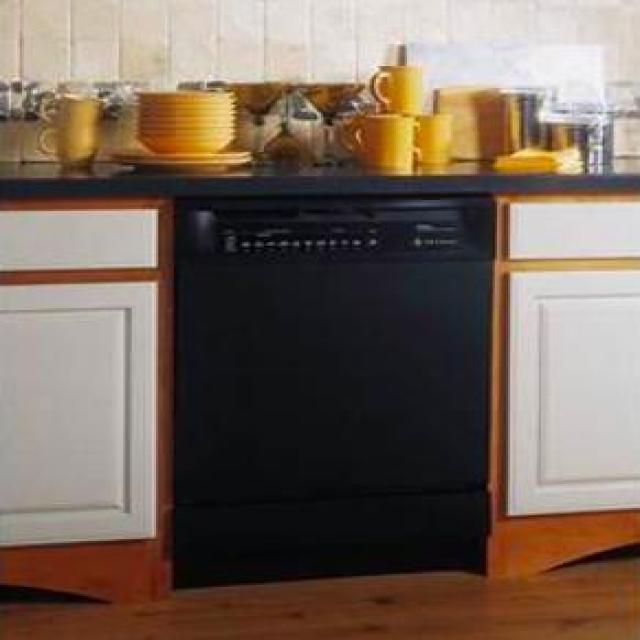dishwasher: (172, 193, 488, 583)
